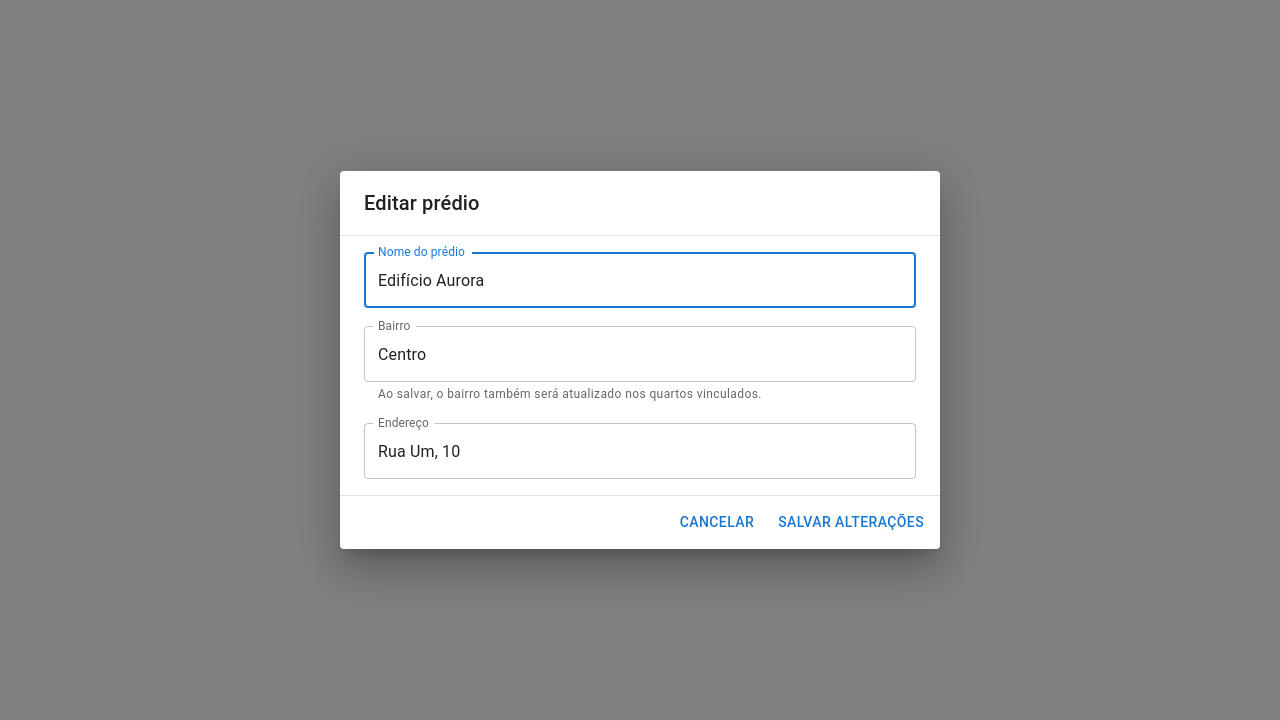
Test: EditBuildingDialog › valida o nome antes de submeter
Clear the field labelled "Nome do prédio" at (640, 280), box [364,252,916,308]
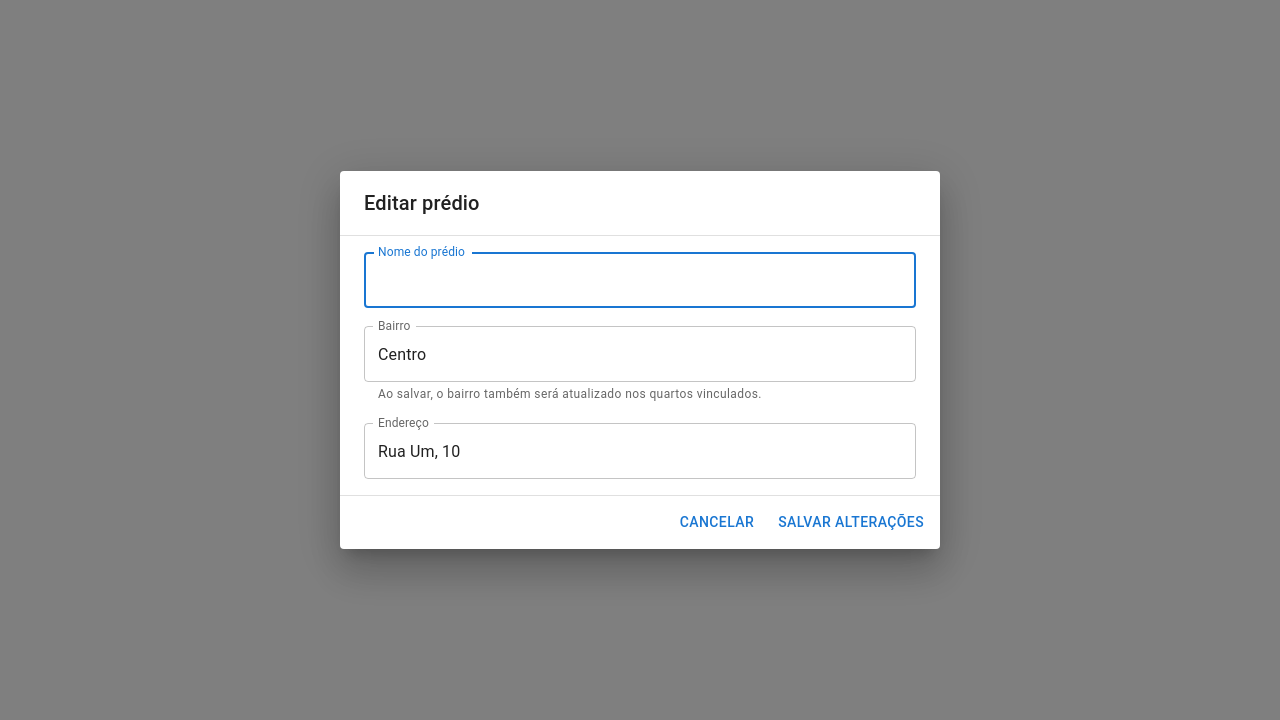
Click the button "Salvar alterações" at (851, 522), box [770,504,932,541]
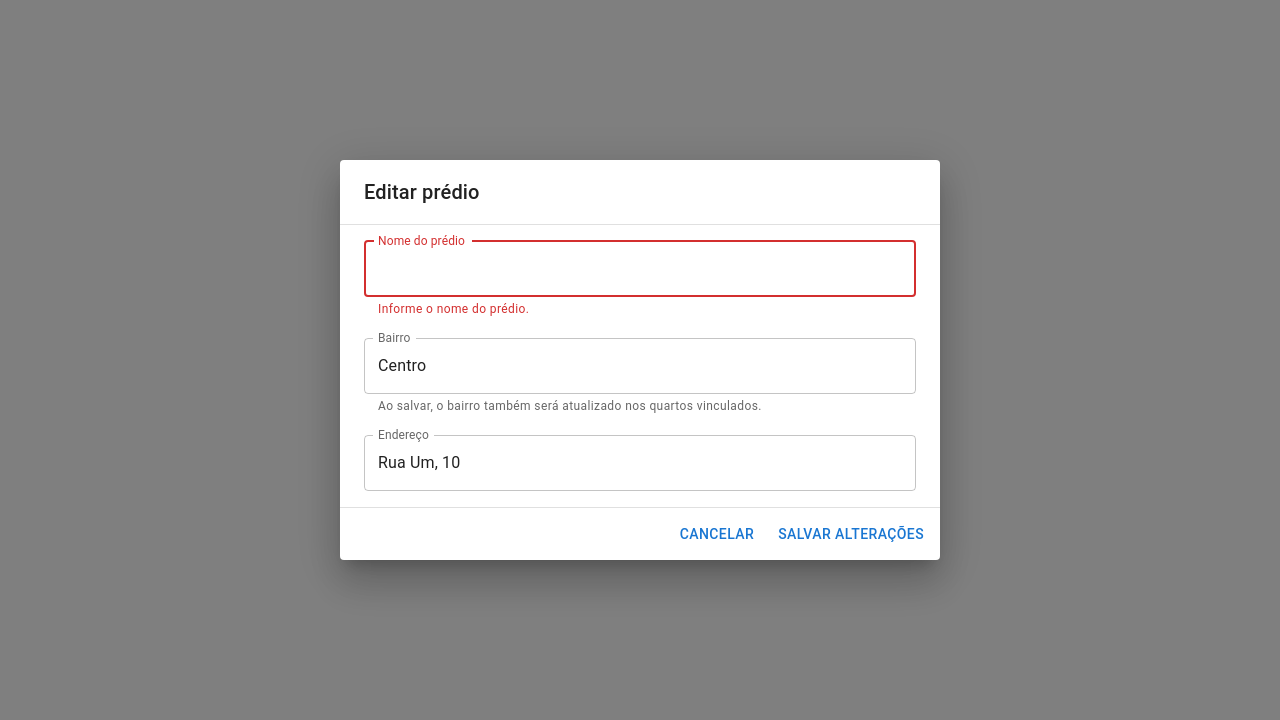
Now the text "Informe o nome do prédio." is shown, box [378,302,529,316]
